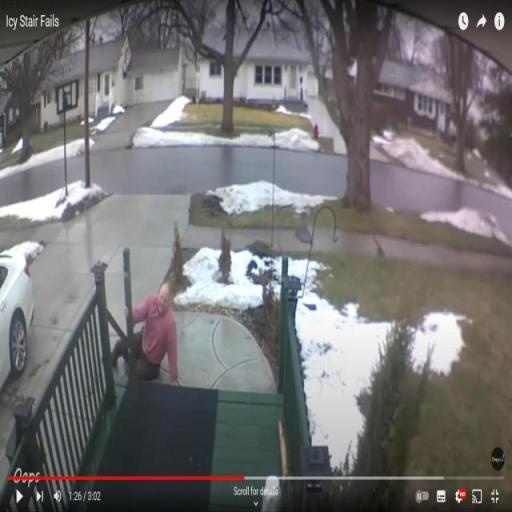Fall: (108, 275, 182, 388)
